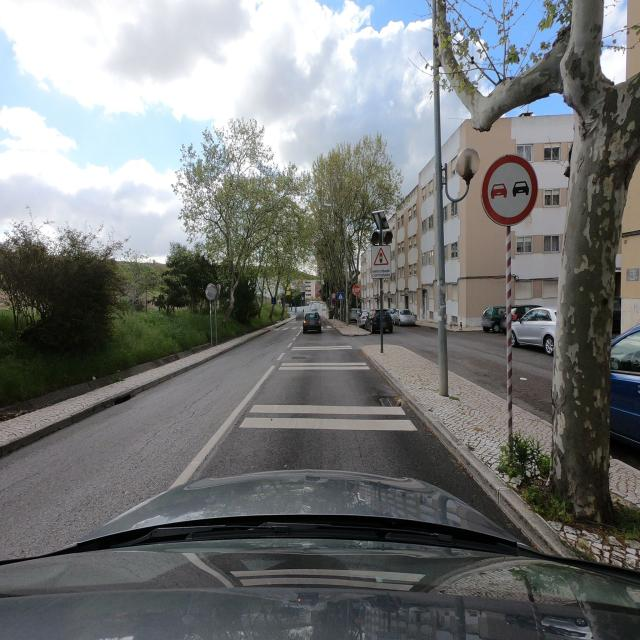forb_stopping: (331, 299, 336, 305)
